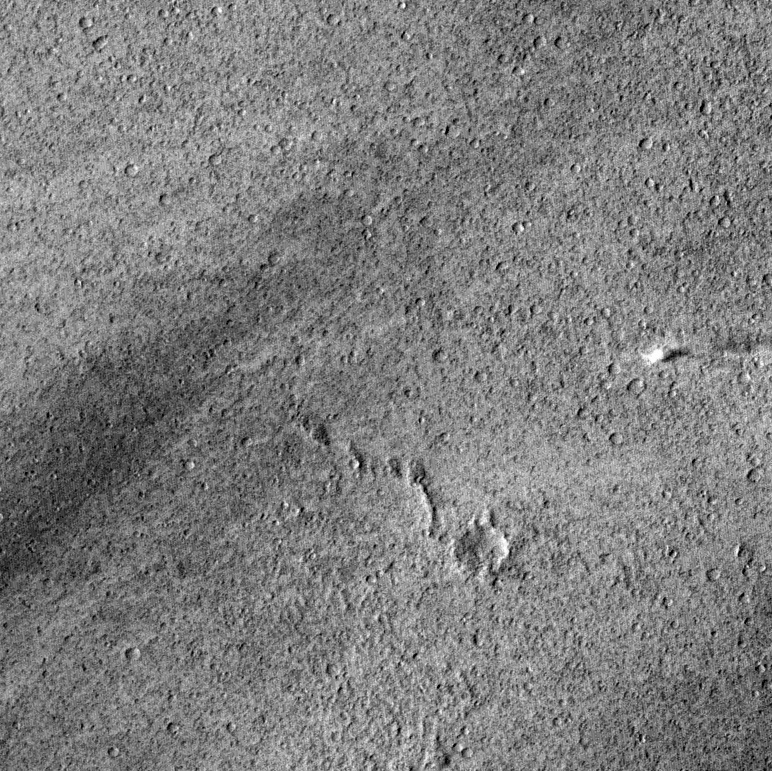dust_devil: (640, 345, 692, 366)
